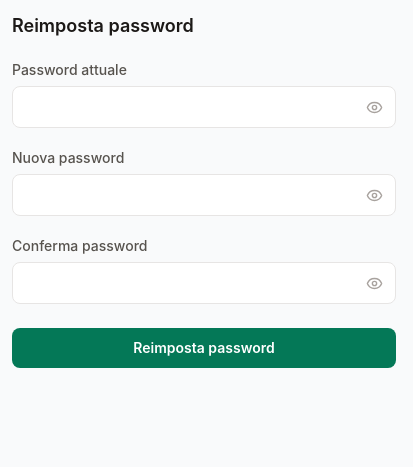
Test: PasswordResetForm – validazione campo vuoto › mostra errore se la password attuale è vuota al submit
The width and height of the screenshot is (413, 467).
Click the button "Reimposta password" at (204, 348), box [12,328,396,368]
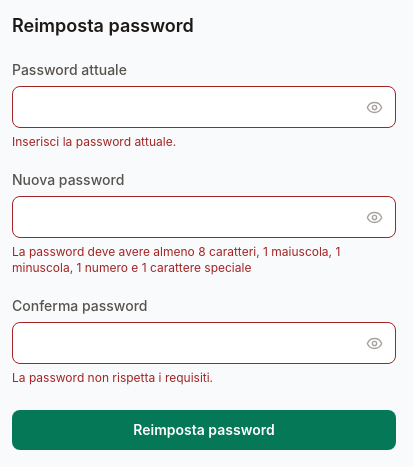
expect the text "Inserisci la password attuale." is shown: met, box [12,134,176,149]
